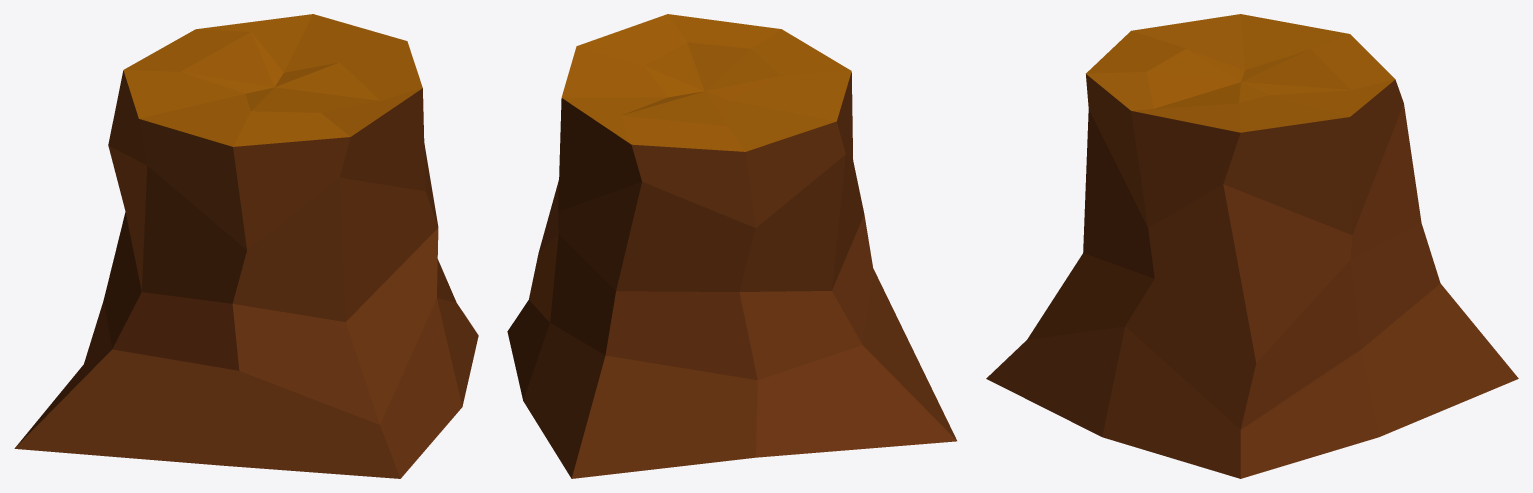
File: tronc_01_vfns.FBX
3 renders of one model, left to right at view 1: azimuth 30°, elevation 25°; view 2: azimuth 150°, elevation 25°; view 3: azimuth 270°, elevation 25°, orthographic. The views are drawn at different scales.
Parts seen in each view (by area): view 1: Cone001; view 2: Cone001; view 3: Cone001.
Part boxes in pixels (x1,y1,x2,y2): Cone001: [14, 14, 478, 478]; Cone001: [507, 14, 956, 478]; Cone001: [986, 14, 1518, 478].
Size of the model in its own units: 261388 by 169144 by 260039.
Materials: 1 (1 with a texture image).
